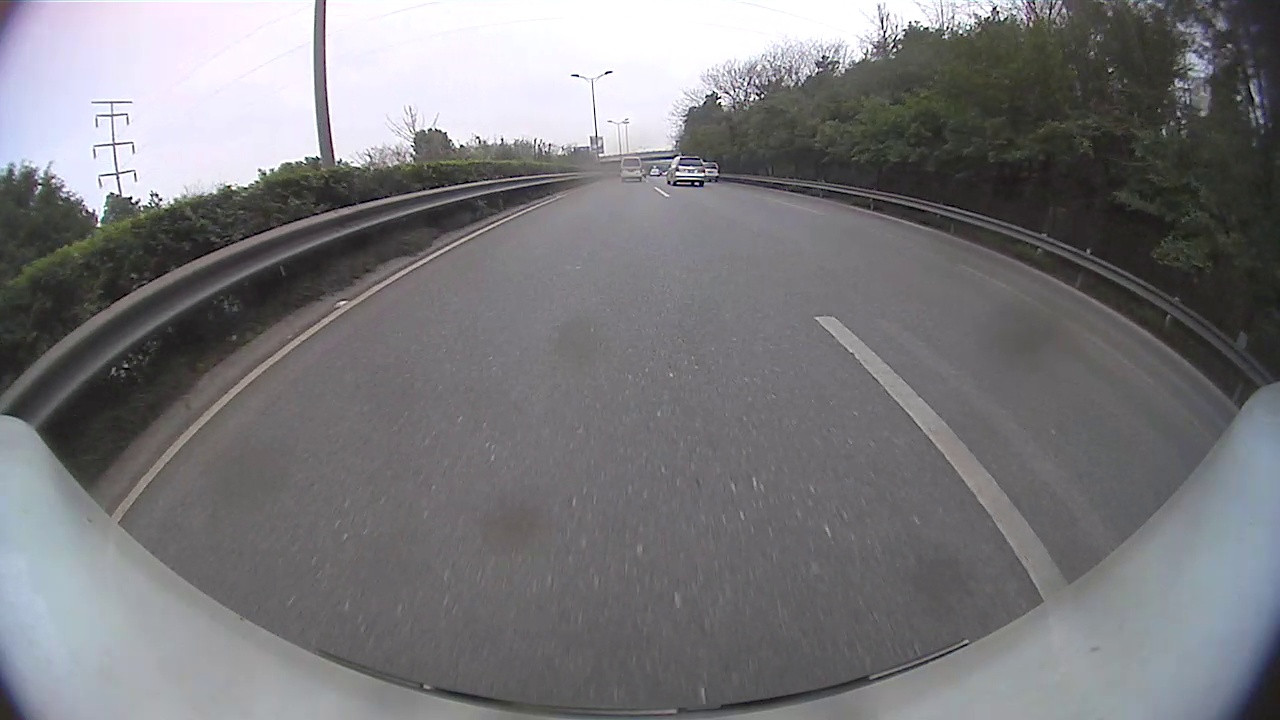car: (665, 154, 706, 187), (619, 155, 643, 181), (703, 161, 721, 182)
